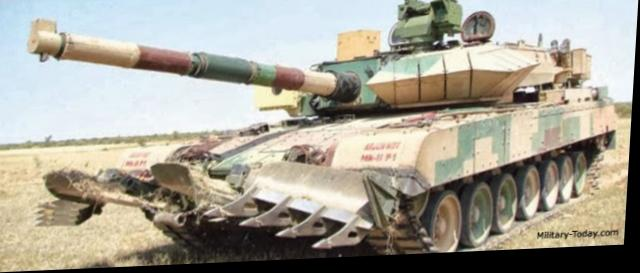tank: (113, 0, 623, 239)
